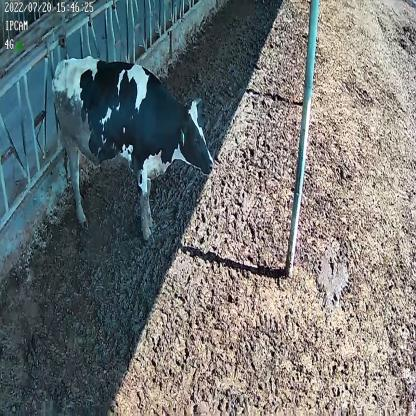cow: (53, 59, 215, 243)
